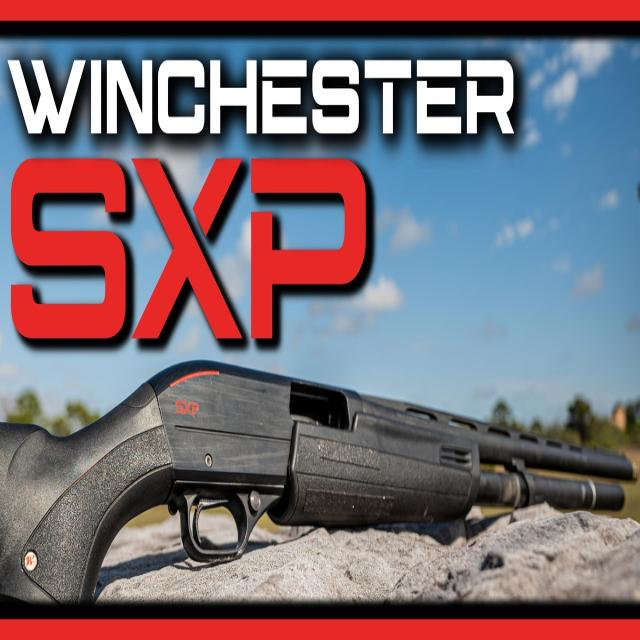ShotGun: (0, 361, 638, 612)
